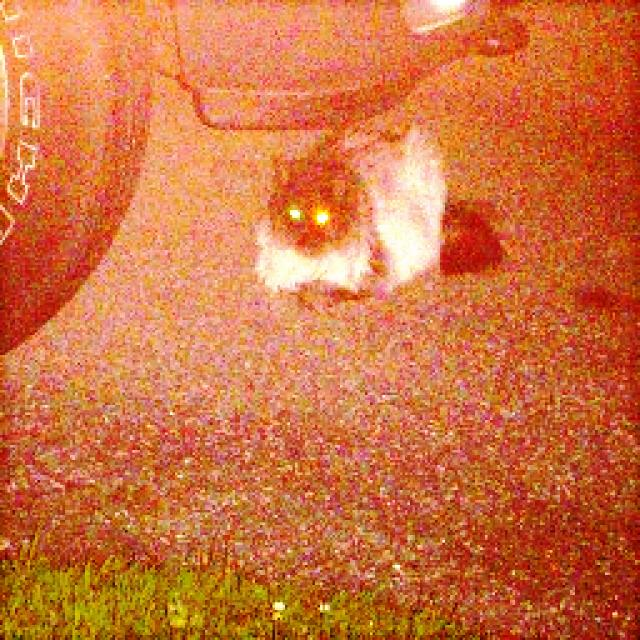cat: (251, 121, 511, 296)
